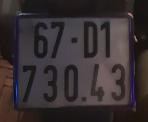0: (63, 62, 80, 104)
1: (101, 20, 112, 61)
3: (41, 60, 62, 104), (110, 61, 128, 102)
4: (88, 61, 109, 105)
6: (31, 19, 49, 61)
7: (20, 63, 41, 104), (49, 18, 66, 59)
D: (80, 19, 101, 61)
